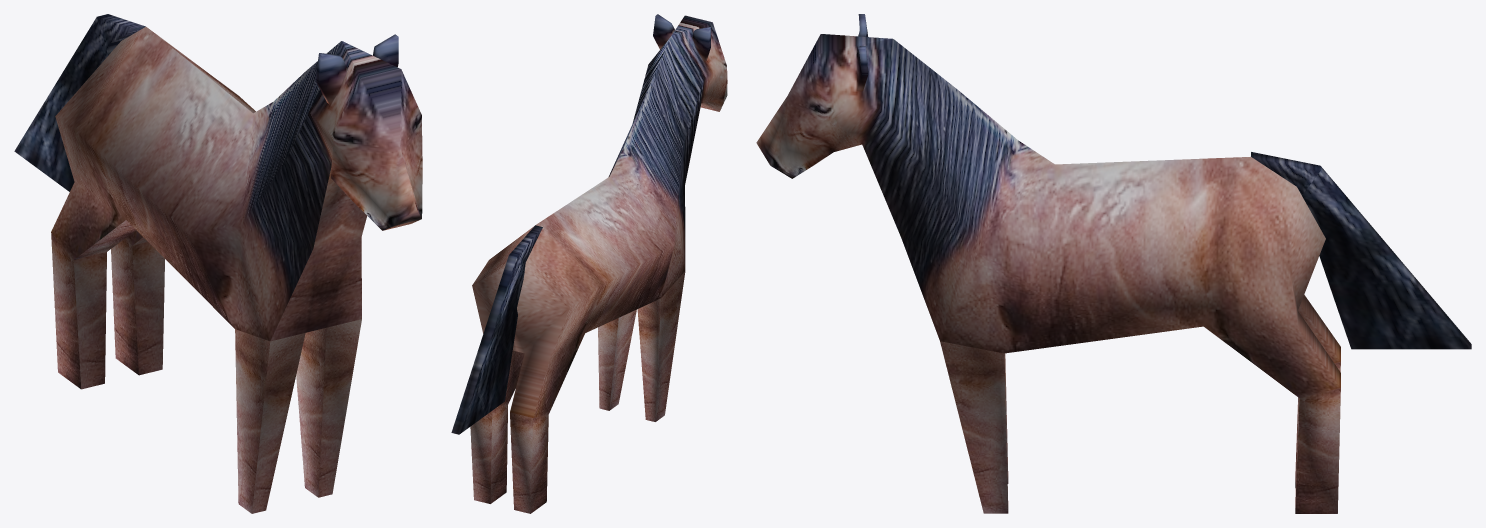
The model's file is horse.003.fbx.
3 renders of one model, left to right at view 1: azimuth 30°, elevation 25°; view 2: azimuth 150°, elevation 25°; view 3: azimuth 270°, elevation 25°, orthographic. The views are drawn at different scales.
Parts seen in each view (by area): view 1: horse.005; view 2: horse.005; view 3: horse.005.
Part boxes in pixels (x1,y1,x2,y2): horse.005: [14, 14, 422, 513]; horse.005: [451, 14, 727, 513]; horse.005: [756, 14, 1471, 513].
Bounding box in the file's own units: 74.51 × 228 × 318.
